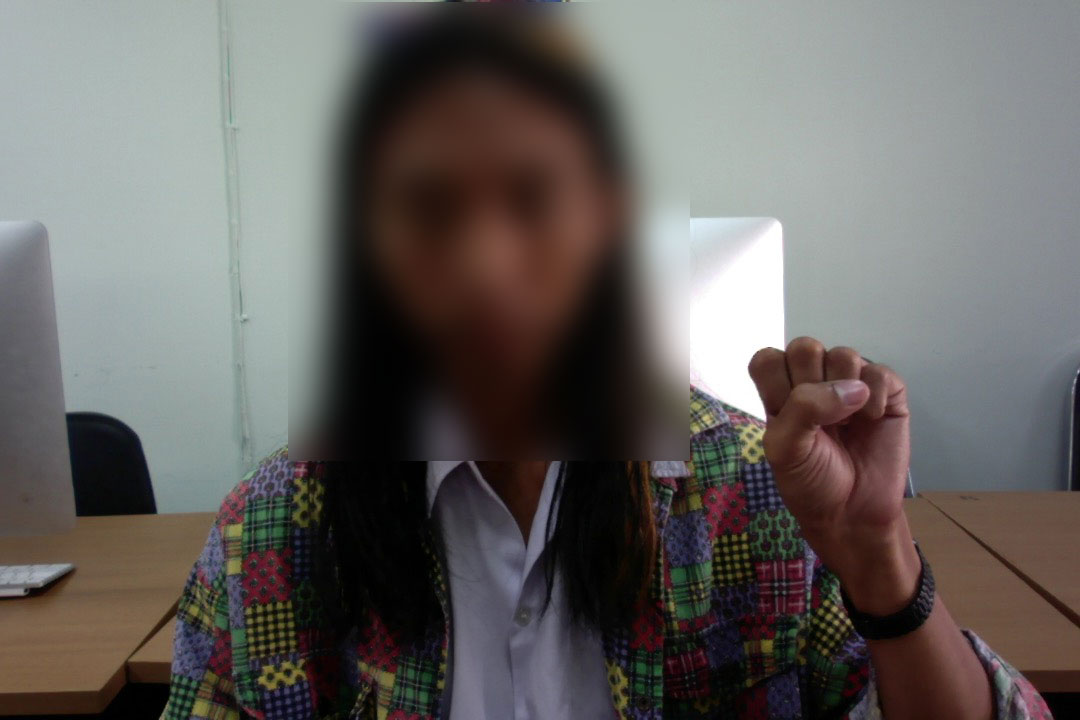sor: (741, 325, 915, 576)
